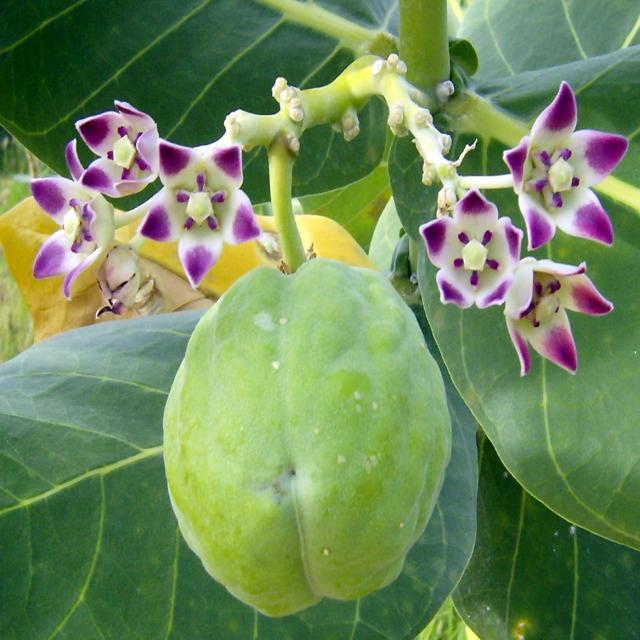Poisonous-Calatropis: (140, 254, 457, 625), (21, 46, 415, 344), (391, 59, 639, 385)
